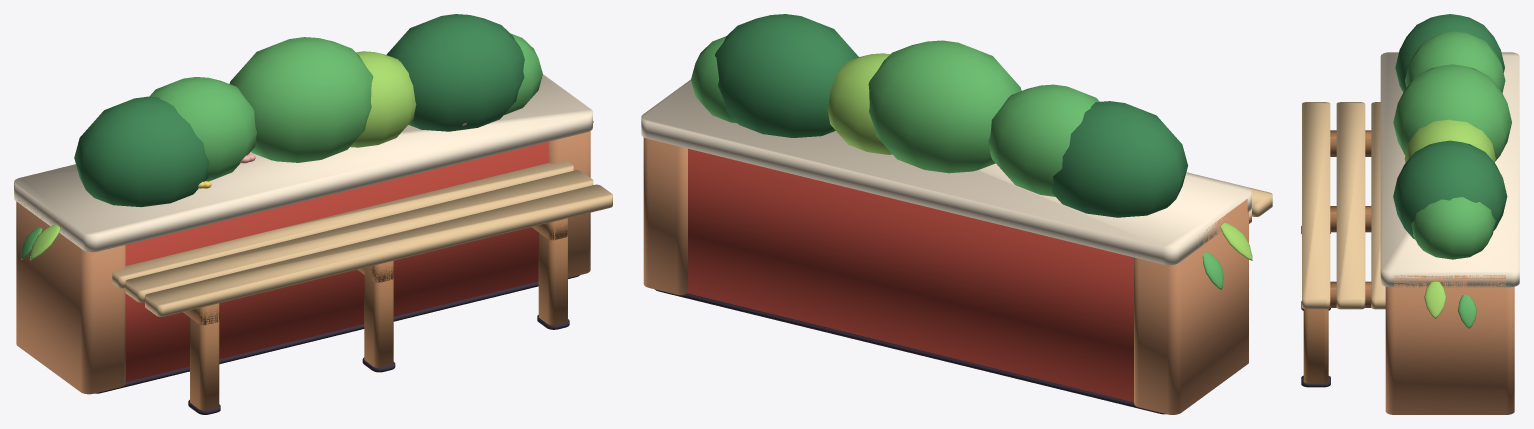
Rendered from garden-planter-bench.glb.
The picture shows the model from 3 angles, left to right: view 1: azimuth 30°, elevation 25°; view 2: azimuth 150°, elevation 25°; view 3: azimuth 270°, elevation 25°; orthographic projection. The views are drawn at different scales.
Visible parts, largest first — view 1: YardPlanterBench_BrickBox, YardPlanterBench_WoodLightSlats, YardPlanterBench_CreamCoping, YardPlanterBench_DeepGreenShrubs, YardPlanterBench_LeafGreenShrubs, YardPlanterBench_TerracottaPilasters, YardPlanterBench_WoodSupports, YardPlanterBench_GrassGreenVines, YardPlanterBench_SlatePads; view 2: YardPlanterBench_BrickBox, YardPlanterBench_CreamCoping, YardPlanterBench_DeepGreenShrubs, YardPlanterBench_LeafGreenShrubs, YardPlanterBench_TerracottaPilasters, YardPlanterBench_GrassGreenVines, YardPlanterBench_SlatePads; view 3: YardPlanterBench_TerracottaPilasters, YardPlanterBench_WoodLightSlats, YardPlanterBench_LeafGreenShrubs, YardPlanterBench_CreamCoping, YardPlanterBench_DeepGreenShrubs, YardPlanterBench_WoodSupports, YardPlanterBench_GrassGreenVines.
Part boxes in pixels (bbox=[...]): YardPlanterBench_BrickBox: bbox=[125, 141, 548, 381]; YardPlanterBench_WoodLightSlats: bbox=[112, 161, 612, 316]; YardPlanterBench_CreamCoping: bbox=[14, 74, 592, 252]; YardPlanterBench_DeepGreenShrubs: bbox=[74, 14, 524, 207]; YardPlanterBench_LeafGreenShrubs: bbox=[21, 33, 542, 259]; YardPlanterBench_TerracottaPilasters: bbox=[16, 131, 590, 394]; YardPlanterBench_WoodSupports: bbox=[183, 218, 567, 410]; YardPlanterBench_GrassGreenVines: bbox=[30, 51, 593, 260]; YardPlanterBench_SlatePads: bbox=[95, 275, 579, 414]; YardPlanterBench_BrickBox: bbox=[688, 148, 1133, 402]; YardPlanterBench_CreamCoping: bbox=[641, 79, 1251, 265]; YardPlanterBench_DeepGreenShrubs: bbox=[715, 14, 1187, 217]; YardPlanterBench_LeafGreenShrubs: bbox=[691, 36, 1223, 289]; YardPlanterBench_TerracottaPilasters: bbox=[643, 137, 1248, 414]; YardPlanterBench_GrassGreenVines: bbox=[827, 53, 1252, 260]; YardPlanterBench_SlatePads: bbox=[655, 289, 1165, 414]; YardPlanterBench_TerracottaPilasters: bbox=[1385, 275, 1514, 414]; YardPlanterBench_WoodLightSlats: bbox=[1302, 102, 1385, 309]; YardPlanterBench_LeafGreenShrubs: bbox=[1393, 31, 1511, 328]; YardPlanterBench_CreamCoping: bbox=[1380, 52, 1519, 287]; YardPlanterBench_DeepGreenShrubs: bbox=[1393, 14, 1507, 239]; YardPlanterBench_WoodSupports: bbox=[1303, 130, 1371, 383]; YardPlanterBench_GrassGreenVines: bbox=[1404, 119, 1495, 318].
Size of the model in its own units: 2.33 by 1.04 by 0.88.
